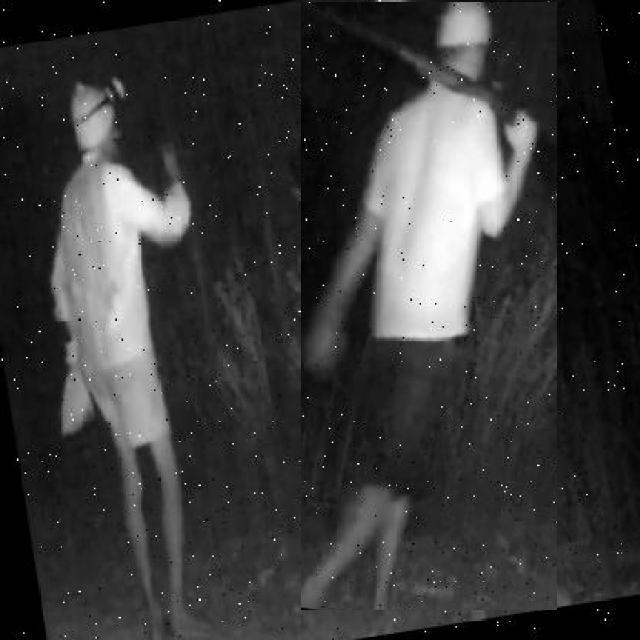Hunter: (301, 2, 557, 610), (48, 63, 224, 628)
